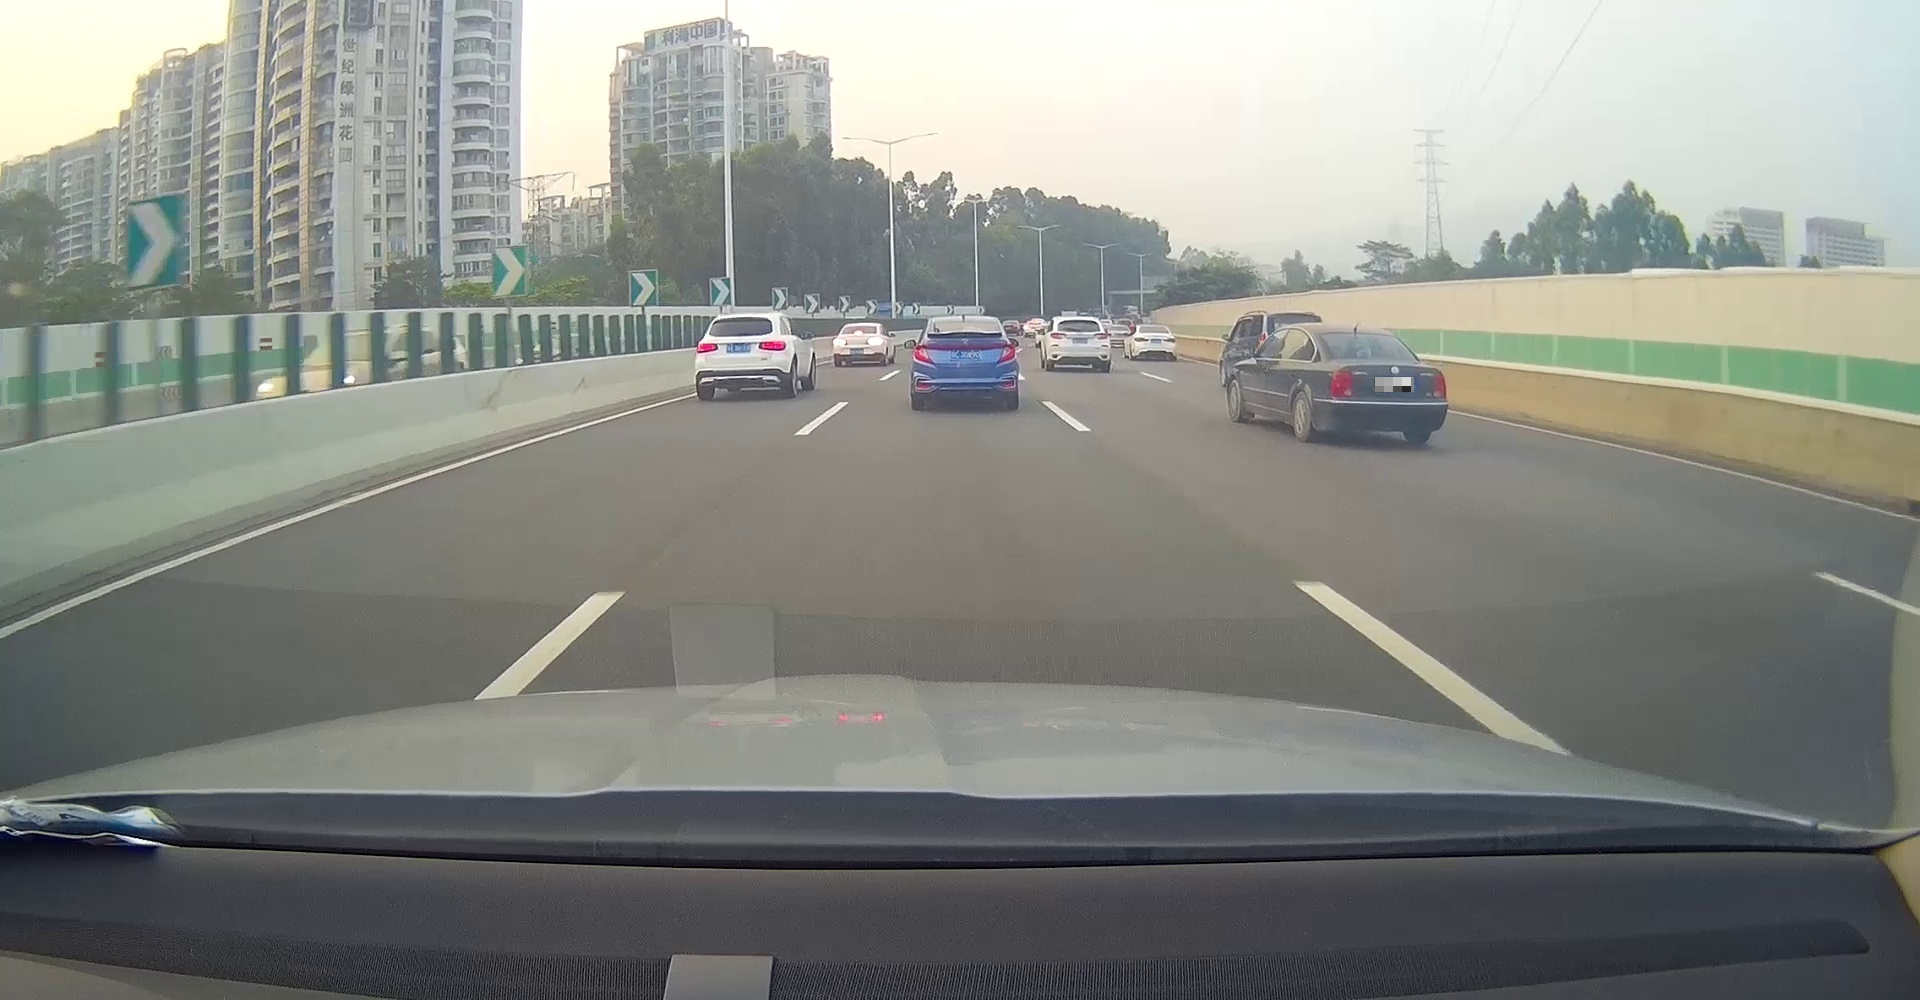L_light: (1330, 371, 1355, 398), (913, 344, 935, 365), (696, 343, 717, 354), (1050, 332, 1067, 340), (833, 339, 847, 345), (1134, 338, 1149, 341)
R_light: (997, 341, 1016, 364), (1432, 371, 1448, 398), (758, 340, 786, 352), (867, 338, 884, 345), (1093, 332, 1109, 339), (1163, 338, 1175, 343)
T_light: (1373, 358, 1390, 360), (957, 319, 971, 321), (1074, 320, 1084, 322), (735, 317, 752, 319), (855, 332, 863, 334)
day-brake: (833, 324, 885, 367)
day-no: (1318, 324, 1449, 444), (910, 315, 1018, 410), (695, 311, 789, 401), (1046, 316, 1111, 373), (1133, 324, 1177, 360)
plate_1: (1375, 377, 1415, 392)
